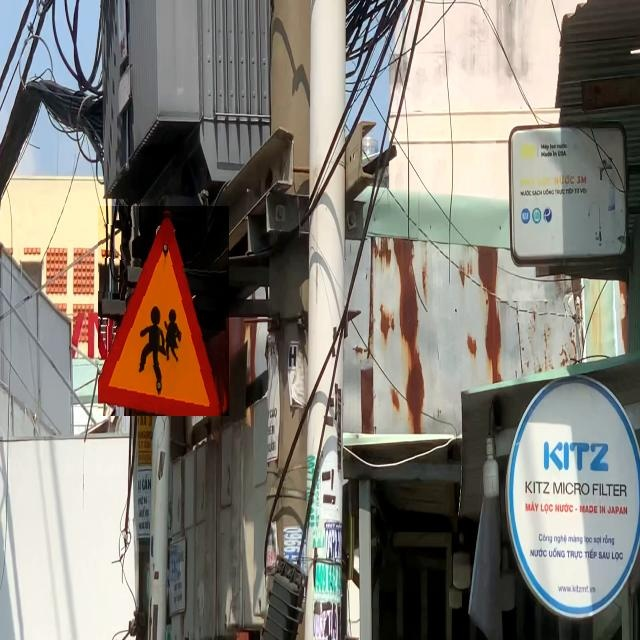bien_nguy_hiem: (98, 206, 229, 416)
